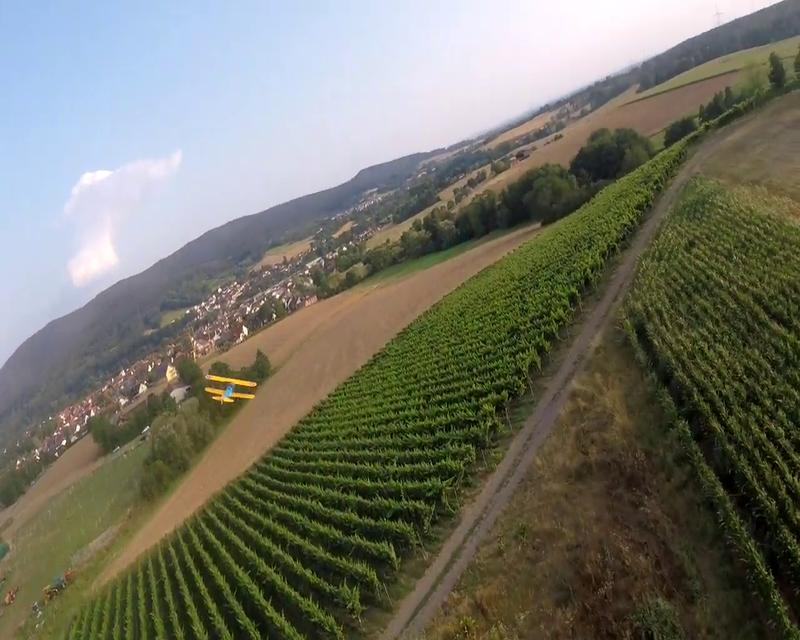UAV: (203, 372, 258, 405)
